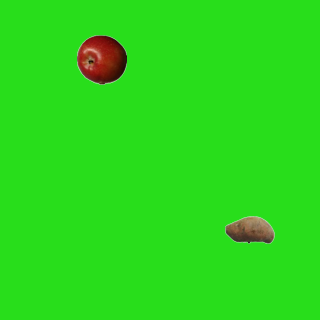Apple Braeburn: (76, 34, 126, 84)
Potato Sweet: (224, 204, 274, 254)
